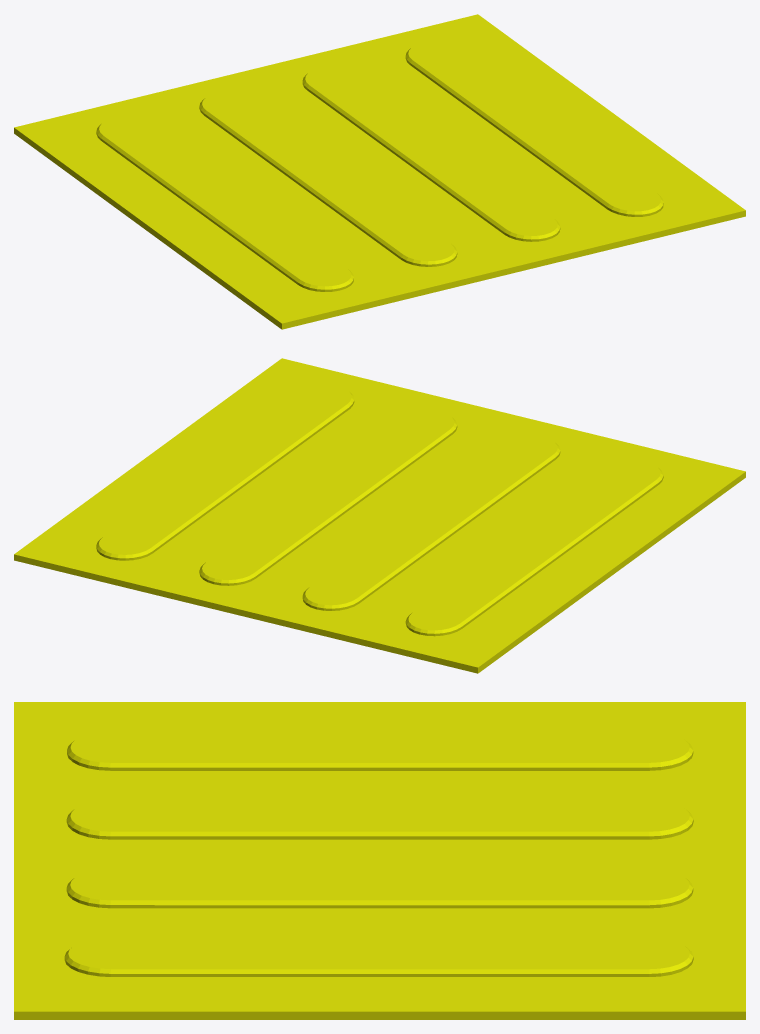
Rendered from Guide bricks-tactile paving.fbx.
The picture shows the model from 3 angles, top to bottom: view 1: azimuth 30°, elevation 25°; view 2: azimuth 150°, elevation 25°; view 3: azimuth 270°, elevation 25°; orthographic projection. The views are drawn at different scales.
Parts seen in each view (by area): view 1: pPlane1; view 2: pPlane1; view 3: pPlane1.
Boxes of the visible parts, box(x1,y1,x2,y2) form: pPlane1: box(14, 14, 745, 329); pPlane1: box(14, 358, 745, 673); pPlane1: box(14, 702, 745, 1019).
Size of the model in its own units: 5 by 0.1112 by 5.
